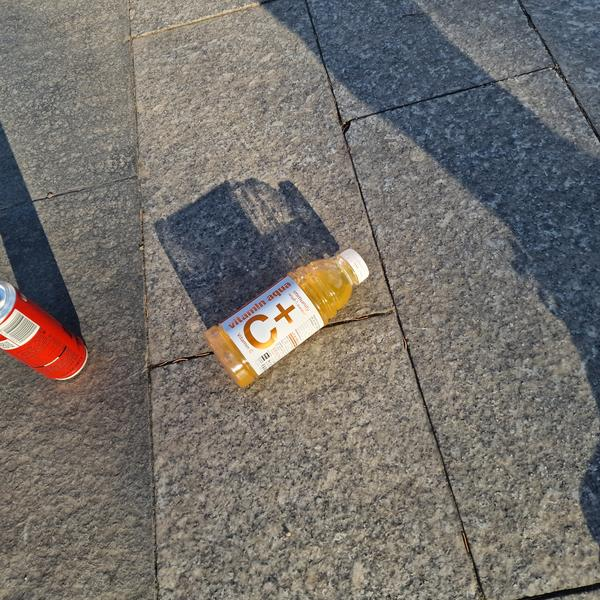can: (0, 277, 90, 383)
plastic_bottle: (199, 230, 384, 392)
